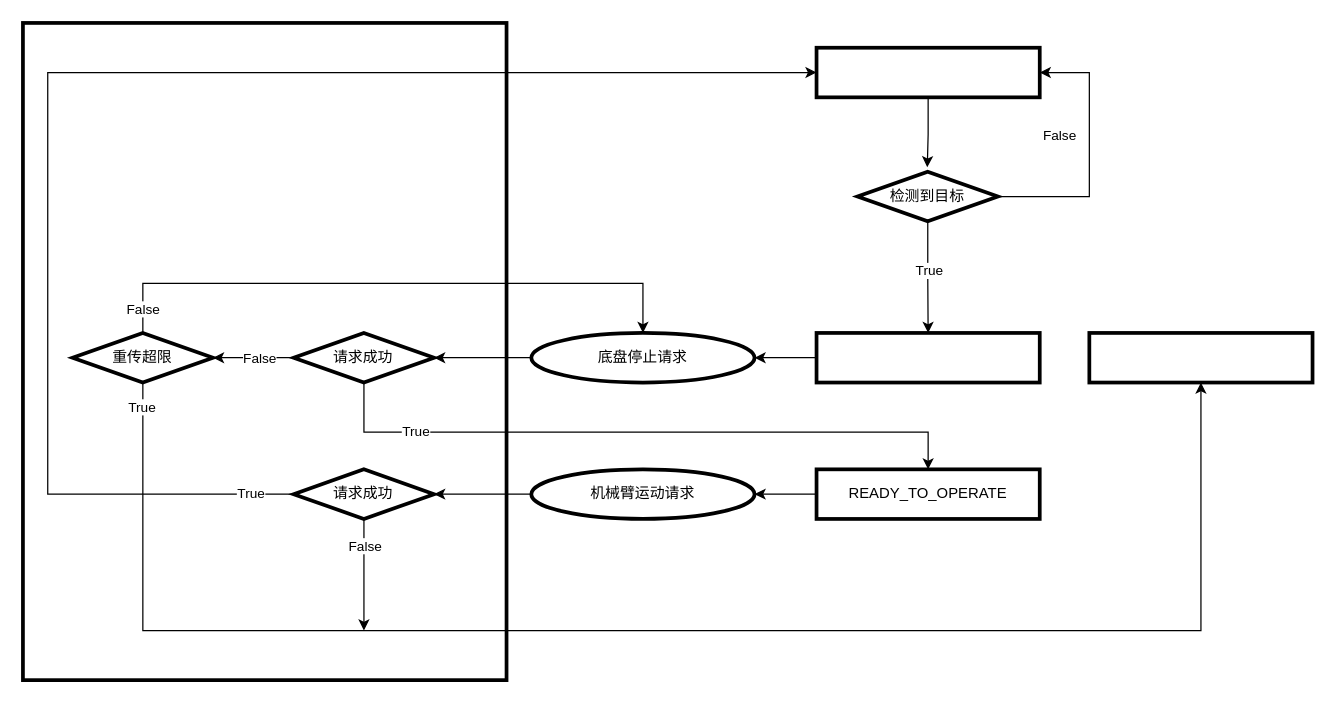
Image size: 1335x703. Some labels were removed from this diagram. Here are the shapes that lost their labels. From the top down, the box of each, then its label:
(814, 45, 1041, 99): DETECTING
(20, 20, 508, 681): PENDING
(814, 330, 1041, 384): TARGET_LOCKED
(1087, 330, 1314, 384): QUIT
